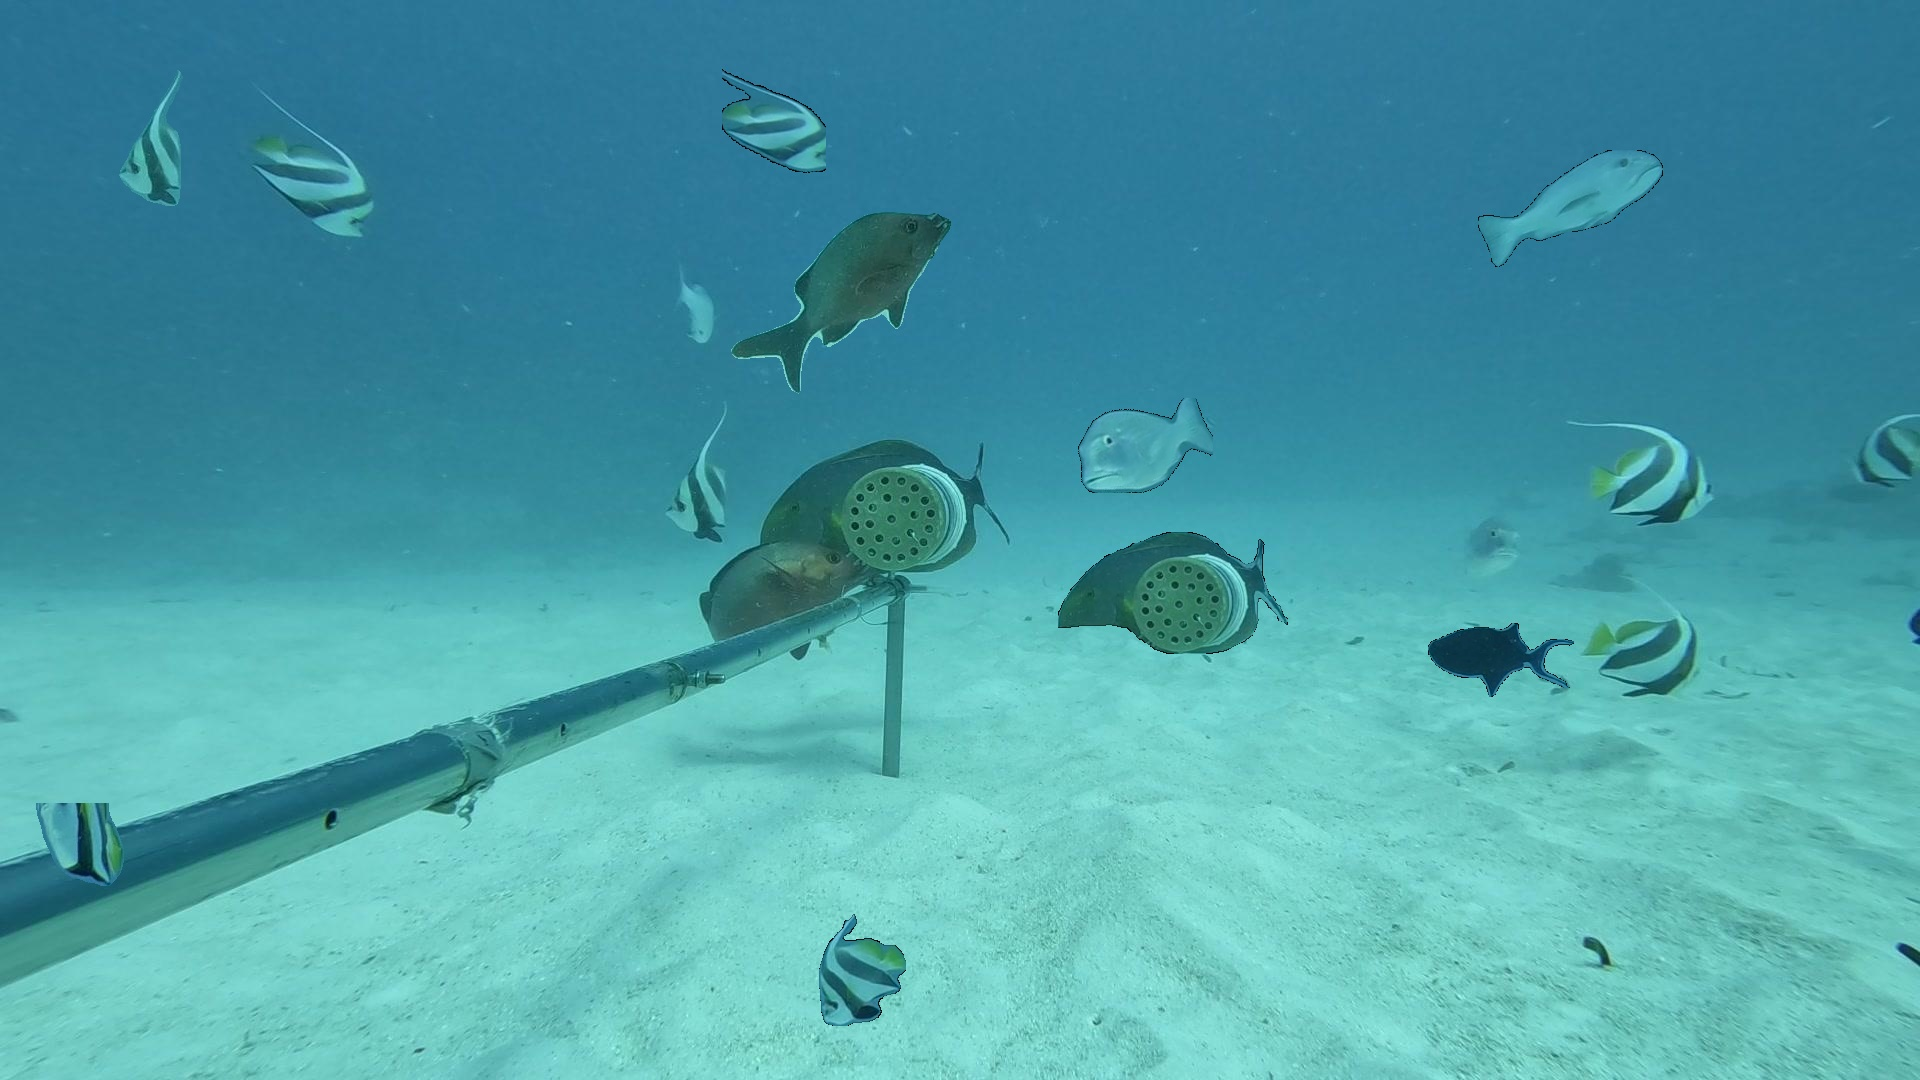fish: (731, 212, 951, 394), (649, 535, 872, 709), (746, 429, 1015, 563), (228, 71, 393, 265), (1058, 531, 1288, 654), (1557, 398, 1726, 538), (1478, 150, 1663, 266), (1581, 588, 1716, 708), (653, 401, 750, 554), (1072, 398, 1213, 493), (723, 58, 825, 181), (1428, 622, 1575, 698), (1840, 386, 1920, 510), (819, 914, 906, 1026), (119, 70, 183, 206), (36, 803, 124, 886), (1449, 505, 1531, 591), (659, 258, 728, 353)
